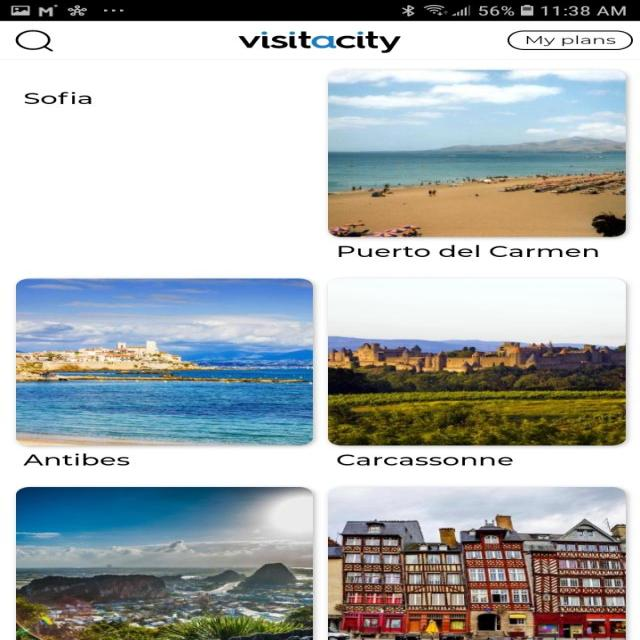Icon: (15, 29, 54, 52)
Image: (327, 278, 626, 446), (16, 278, 313, 446), (327, 70, 625, 237), (327, 486, 626, 640), (15, 486, 313, 640), (237, 31, 401, 54)
Text: (338, 245, 598, 258), (336, 453, 513, 466), (22, 452, 130, 466), (23, 92, 92, 105)
TextButton: (507, 30, 633, 50)
